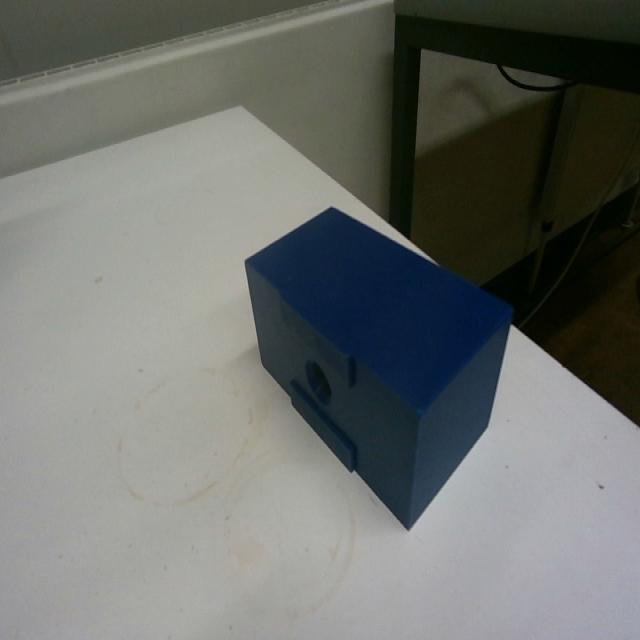Blue Cuboid: (241, 201, 515, 531)
